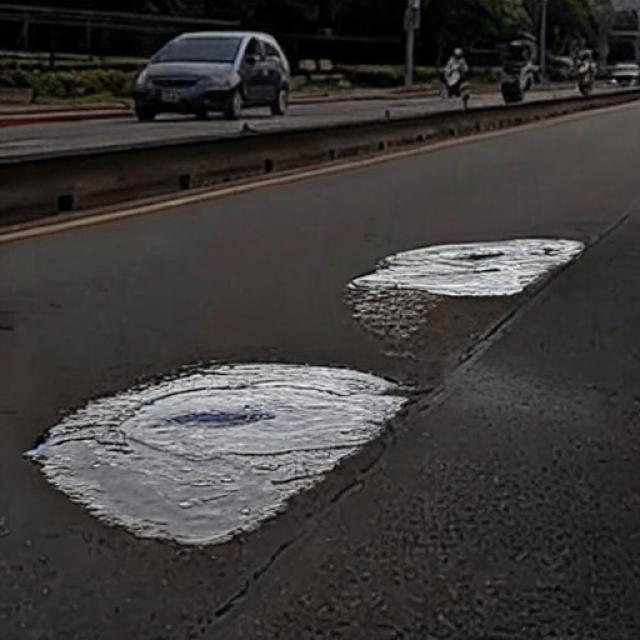puddle: (32, 360, 409, 548), (348, 238, 585, 344)
